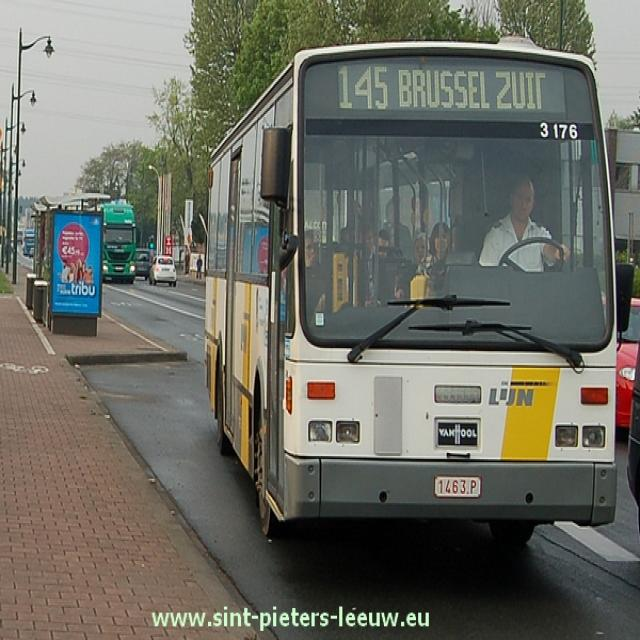bus-number: (336, 63, 393, 114)
